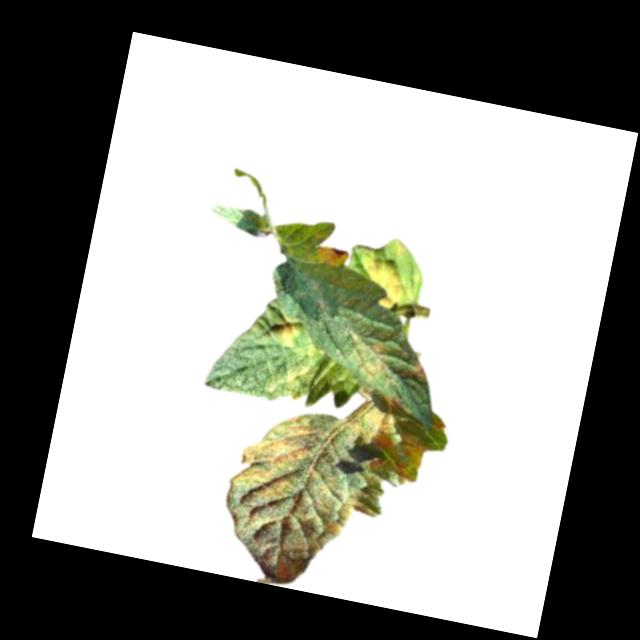Leaf_Mold: (210, 394, 433, 609), (344, 332, 398, 385), (359, 257, 411, 312), (277, 357, 315, 401), (270, 315, 303, 351), (315, 244, 350, 270), (405, 357, 432, 386)
